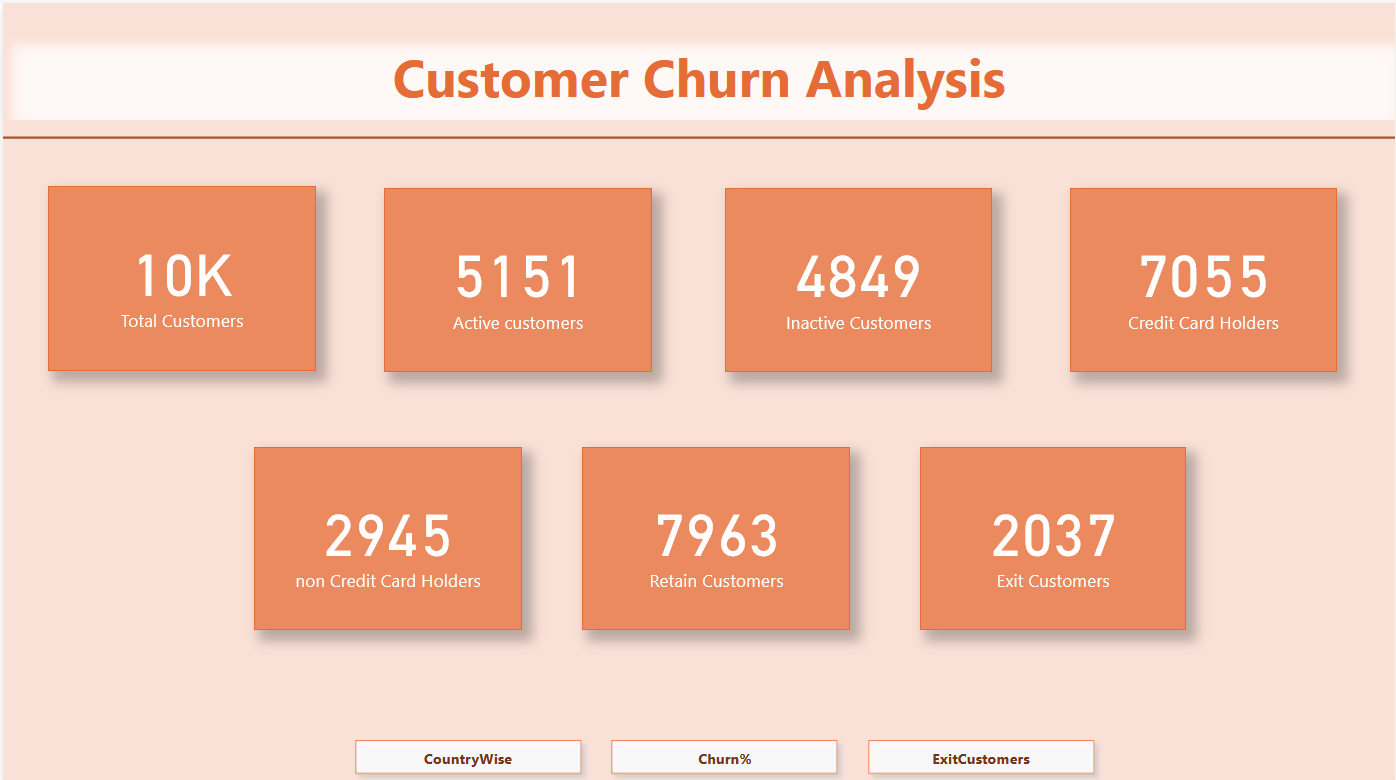

The dashboard page shown, as its layout file describes it:
{"tool":"powerbi","page":{"name":"HomePage","canvas":[1280,720],"ordinal":0},"visuals":[{"type":"shape","box":[0,74.3,1280,98.6],"z":0},{"type":"textbox","box":[0,29.6,1280.3,78.9],"z":1000},{"type":"card","fields":{"Values":["Calculations.Total Customers"]},"box":[42,168,246,170],"z":2000},{"type":"card","fields":{"Values":["Calculations.Active customers"]},"box":[350,170,246,170],"z":3000},{"type":"card","fields":{"Values":["Calculations.Inactive Customers"]},"box":[664,170,246,170],"z":4000},{"type":"card","fields":{"Values":["Calculations.Credit Card Holders"]},"box":[980,170,246,170],"z":5000},{"type":"card","fields":{"Values":["Calculations.non Credit Card Holders"]},"box":[230.2,408.8,246.8,168.1],"z":6000},{"type":"card","fields":{"Values":["Calculations.Retain Customers"]},"box":[533,408.8,246.8,168.1],"z":7000},{"type":"card","fields":{"Values":["Calculations.Exit Customers"]},"box":[843.4,408.8,245.3,168.1],"z":8000},{"type":"pageNavigator","box":[315,669.3,699.6,50],"z":11001}]}

Visuals, with their boxes in screenshot pixels (x1, y1, x2, y2), scaled from the page's 1280x720 canvas onto the 1396x780 screenshot:
shape: bbox=(0, 80, 1395, 187)
textbox: bbox=(0, 32, 1395, 118)
card - Calculations.Total Customers: bbox=(46, 182, 314, 366)
card - Calculations.Active customers: bbox=(382, 184, 650, 368)
card - Calculations.Inactive Customers: bbox=(724, 184, 992, 368)
card - Calculations.Credit Card Holders: bbox=(1069, 184, 1337, 368)
card - Calculations.non Credit Card Holders: bbox=(251, 443, 520, 625)
card - Calculations.Retain Customers: bbox=(581, 443, 850, 625)
card - Calculations.Exit Customers: bbox=(920, 443, 1187, 625)
pageNavigator: bbox=(344, 725, 1107, 779)
